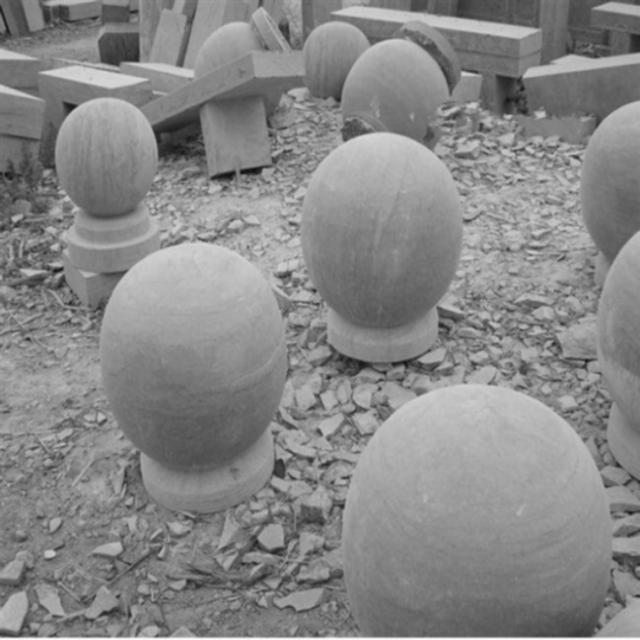spherical_roadblock: (338, 383, 618, 639), (92, 232, 290, 506), (298, 126, 462, 326), (51, 95, 165, 234), (336, 19, 462, 141), (574, 98, 637, 280), (594, 225, 639, 479), (189, 7, 293, 69), (300, 19, 371, 98)
